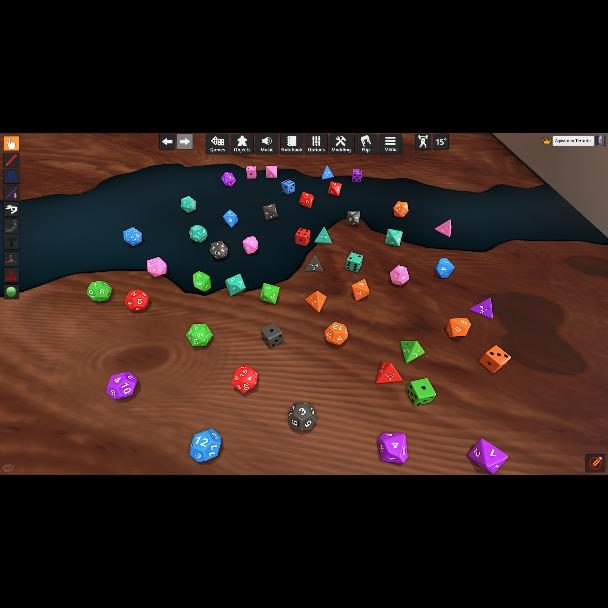d10: (378, 432, 408, 462), (446, 318, 472, 338), (224, 274, 246, 296), (433, 258, 455, 278), (192, 271, 212, 293), (242, 236, 258, 254), (345, 210, 359, 226), (300, 192, 314, 208)
d12: (189, 428, 221, 462), (106, 372, 138, 399), (288, 403, 316, 431), (125, 289, 149, 311), (87, 282, 113, 302), (324, 322, 346, 344), (388, 266, 408, 286), (190, 225, 206, 243)
d20: (232, 366, 258, 392), (187, 324, 213, 346), (147, 256, 167, 278), (123, 228, 143, 246), (210, 242, 228, 260), (220, 171, 236, 187), (181, 196, 197, 212), (393, 201, 407, 217)
d4: (400, 340, 426, 364), (376, 362, 402, 384), (470, 298, 494, 318), (306, 290, 324, 312), (435, 220, 451, 238), (304, 256, 321, 272), (314, 228, 330, 244), (320, 165, 333, 180)
d6: (479, 344, 512, 374), (406, 378, 436, 406), (261, 322, 283, 348), (345, 252, 363, 272), (296, 228, 310, 246), (281, 180, 294, 195), (352, 169, 363, 183), (246, 165, 256, 178)
d8: (468, 437, 508, 472), (260, 283, 280, 303), (351, 280, 369, 300), (386, 228, 402, 246), (223, 210, 238, 228), (262, 204, 278, 220), (328, 181, 342, 197), (266, 166, 276, 178)
